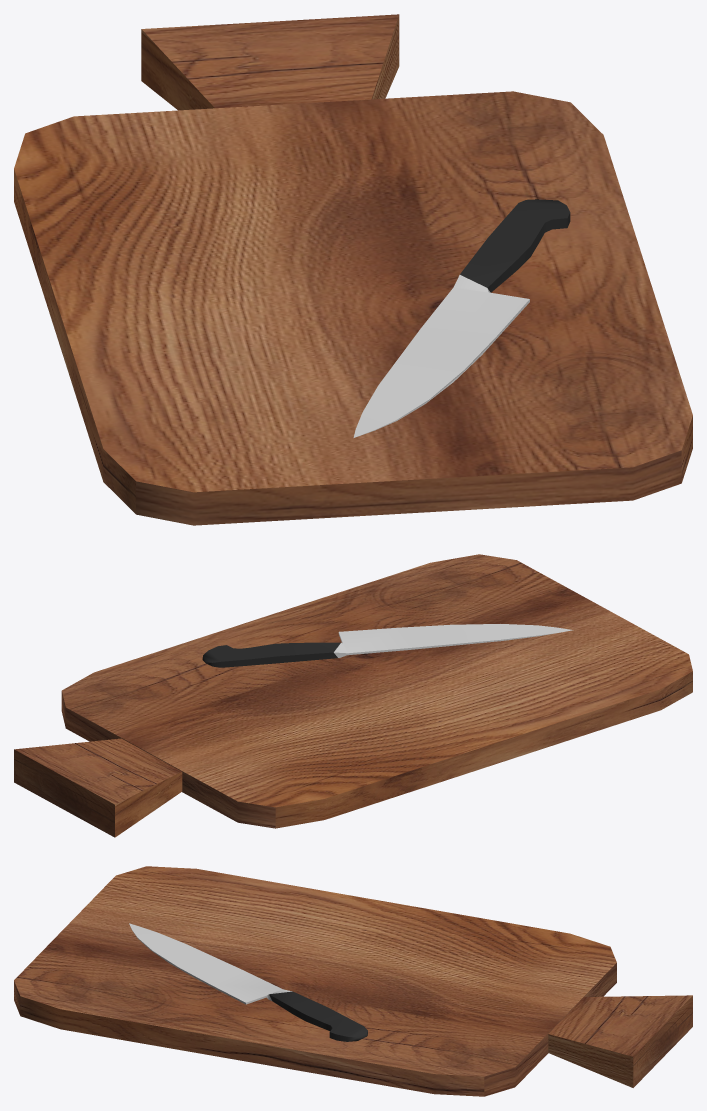
The model's file is CuttingBoardWithKnife.fbx.
The picture shows the model from 3 angles, top to bottom: view 1: azimuth 30°, elevation 25°; view 2: azimuth 150°, elevation 25°; view 3: azimuth 270°, elevation 25°; orthographic projection. The views are drawn at different scales.
Parts seen in each view (by area): view 1: Cube.038; view 2: Cube.038; view 3: Cube.038.
Part boxes in pixels (bbox=[...]): Cube.038: bbox=[14, 14, 692, 525]; Cube.038: bbox=[14, 554, 692, 837]; Cube.038: bbox=[14, 866, 692, 1096].
Size of the model in its own units: 34.66 by 2.49 by 47.26.
3 materials, 1 textured.
